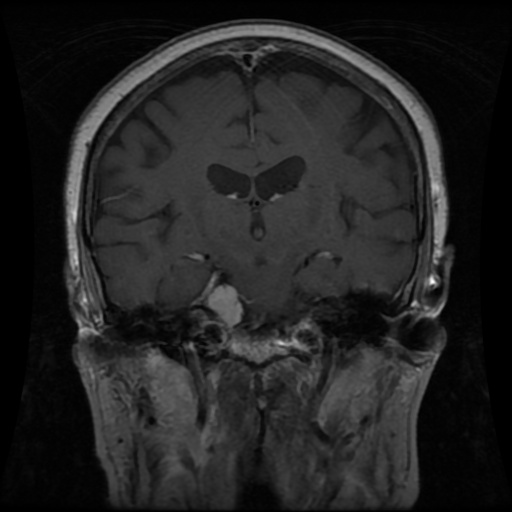meningioma: (206, 284, 242, 325)
